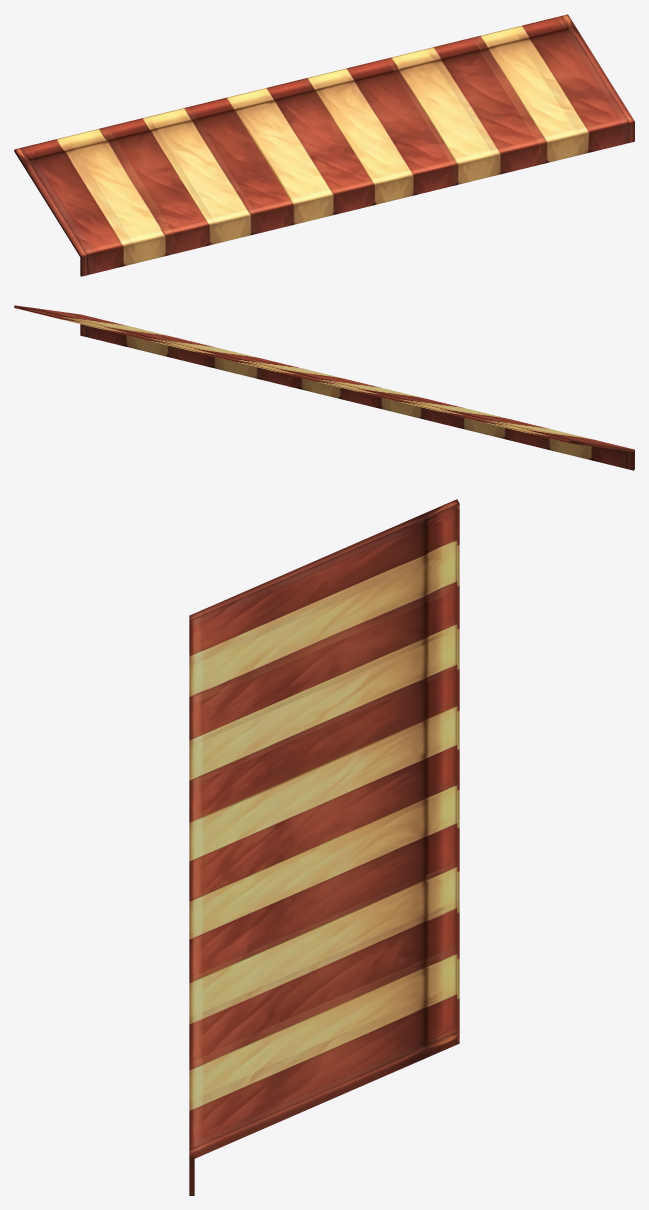
File: DECO_Awning6.fbx
3 views of the same model, one above another, from view 1: azimuth 30°, elevation 25°; view 2: azimuth 150°, elevation 25°; view 3: azimuth 270°, elevation 25° (orthographic). The views are drawn at different scales.
Parts seen in each view (by area): view 1: DECO_Awning6; view 2: DECO_Awning6; view 3: DECO_Awning6.
Part boxes in pixels (<box>): DECO_Awning6: <box>14,14,634,276</box>; DECO_Awning6: <box>14,305,634,470</box>; DECO_Awning6: <box>189,499,459,1195</box>.
Bounding box in the file's own units: 6 × 1.27 × 0.8113.
Materials: 1 (1 with a texture image).
